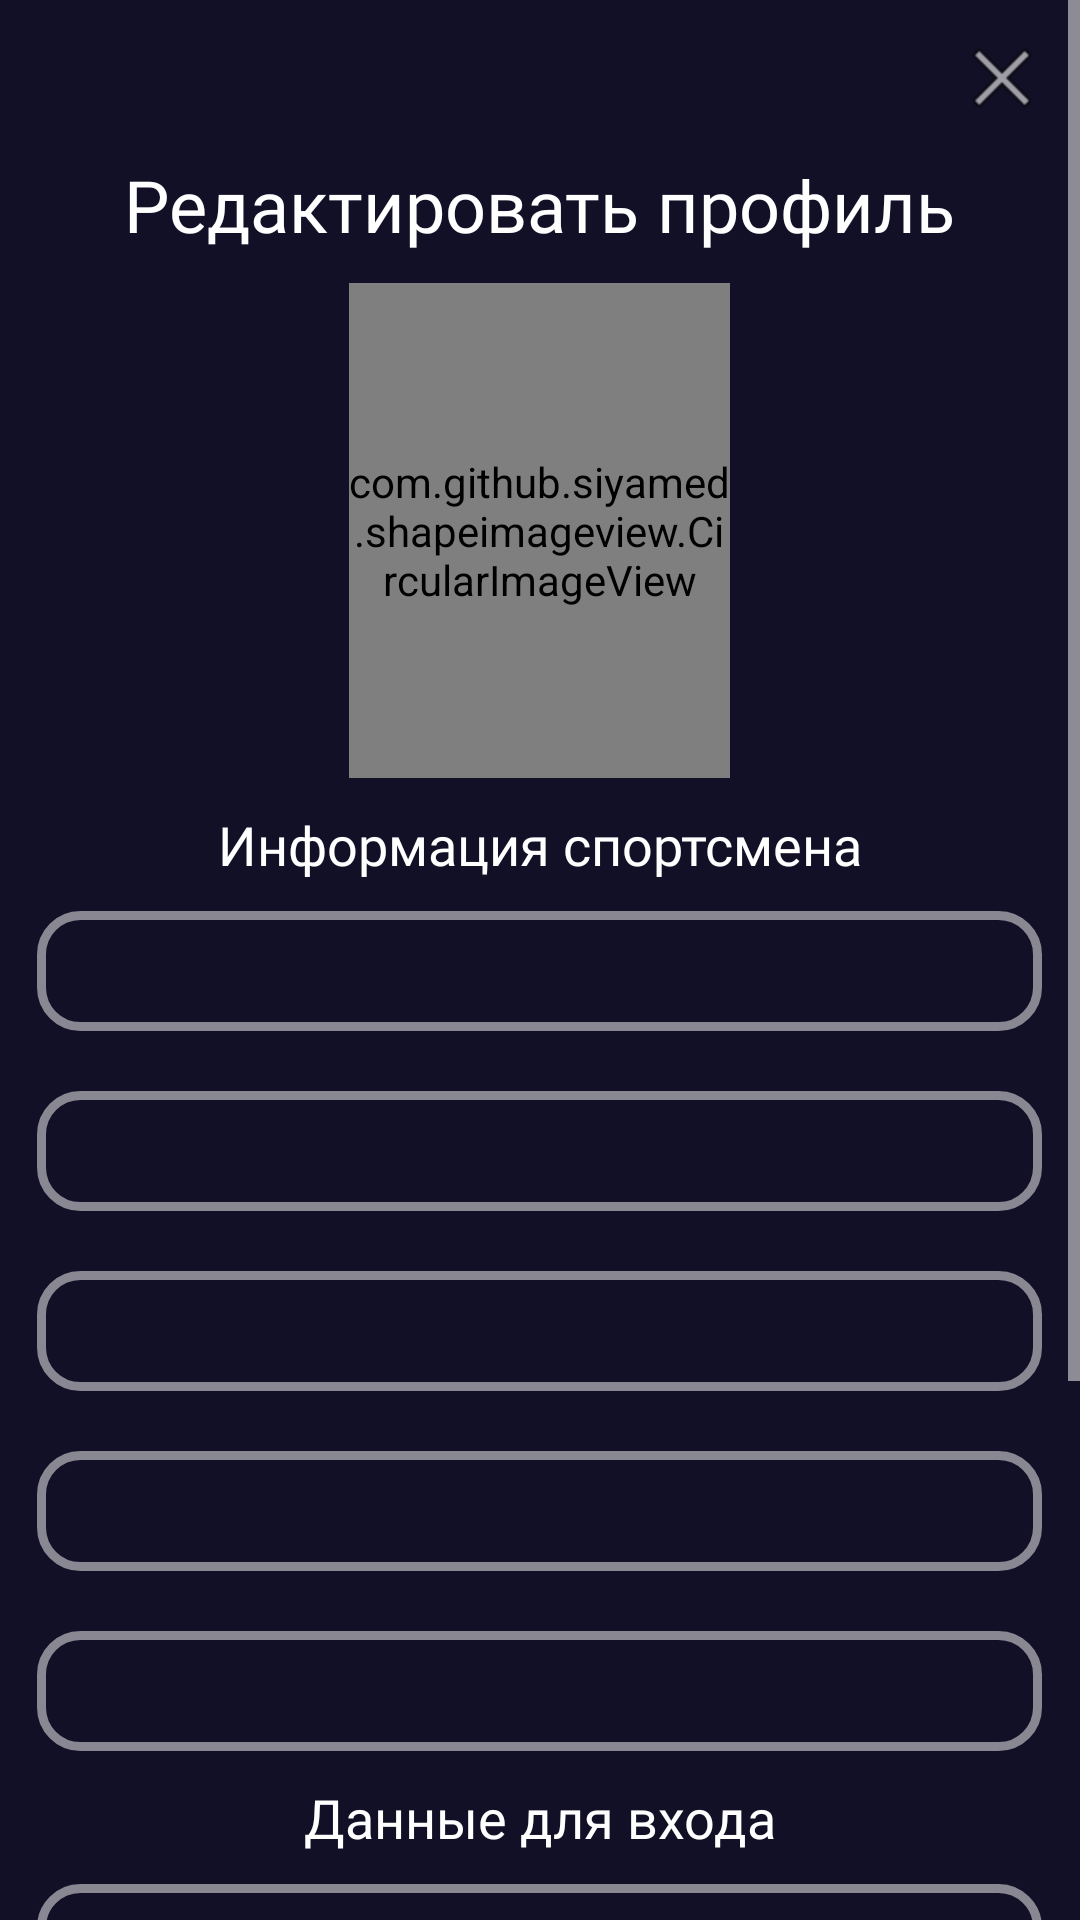

Icons on this 1080px x 1920px Android screen, each with the point to tap as [x,y]:
close clear cancel: [1002,78]
